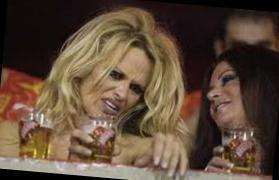Drunk: (87, 45, 145, 119), (205, 63, 243, 125)
